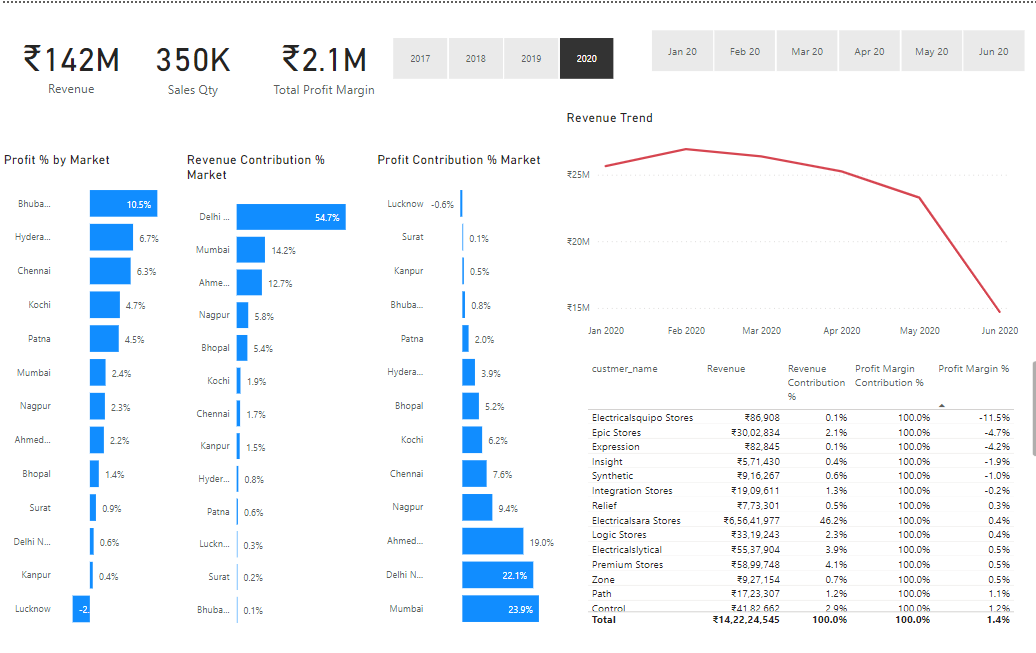

Layout of this report page (visuals, bound fields, positions):
{"tool":"powerbi","page":{"name":"Profit Analysis","canvas":[1350,850],"ordinal":1},"visuals":[{"type":"card","fields":{"Values":["BaseMeasures (2).Revenue"]},"box":[3.9,20.7,178.3,118.3],"z":0},{"type":"card","fields":{"Values":["BaseMeasures (2).Sales Qty"]},"box":[181.7,28.3,136.7,103.3],"z":1000},{"type":"barChart","title":"Profit % by Market","fields":{"Category":["sales markets.markets_name"],"Y":["BaseMeasures (2).Profit Margin %"]},"box":[0,193.3,246.7,631.7],"z":2000},{"type":"barChart","title":"Revenue Contribution % Market","fields":{"Category":["sales markets.markets_name"],"Y":["BaseMeasures (2).Revenue Contribution %"]},"box":[236.7,193.3,230,631.7],"z":3000},{"type":"slicer","fields":{"Values":["sales date.year"]},"box":[483.2,0,335.5,66.5],"z":4000},{"type":"slicer","fields":{"Values":["sales date.cy_date"]},"box":[818.6,0,531.7,66.5],"z":5000},{"type":"tableEx","title":"Top 5 Customers","fields":{"Values":["sales customers.custmer_name","BaseMeasures (2).Revenue","BaseMeasures (2).Revenue Contribution %","BaseMeasures (2).Profit Margin Contribution %","BaseMeasures (2).Profit Margin %"]},"box":[755,458.3,595,353.3],"z":6000},{"type":"lineChart","title":"Revenue Trend","fields":{"Y":["BaseMeasures (2).Revenue"],"Category":["sales date.cy_date"]},"box":[728.3,105,595,338.3],"z":7000},{"type":"card","fields":{"Values":["BaseMeasures (2).Total Profit Margin"]},"box":[341.7,28.3,156.7,103.3],"z":8000},{"type":"barChart","title":"Profit Contribution % Market","fields":{"Category":["sales markets.markets_name"],"Y":["BaseMeasures (2).Profit Margin Contribution %"]},"box":[483.8,193.8,245,631.2],"z":9000}]}

Visuals, with their boxes in screenshot pixels (x1, y1, x2, y2), scaled from the page's 1350x850 canvas onto the 1036x653 screenshot:
card - BaseMeasures (2).Revenue: <region>3, 16, 140, 107</region>
card - BaseMeasures (2).Sales Qty: <region>139, 22, 244, 101</region>
"Profit % by Market" barChart: <region>0, 148, 189, 634</region>
"Revenue Contribution % Market" barChart: <region>182, 148, 358, 634</region>
slicer - sales date.year: <region>371, 0, 628, 51</region>
slicer - sales date.cy_date: <region>628, 0, 1035, 51</region>
"Top 5 Customers" tableEx: <region>579, 352, 1035, 623</region>
"Revenue Trend" lineChart: <region>559, 81, 1016, 341</region>
card - BaseMeasures (2).Total Profit Margin: <region>262, 22, 382, 101</region>
"Profit Contribution % Market" barChart: <region>371, 149, 559, 634</region>
